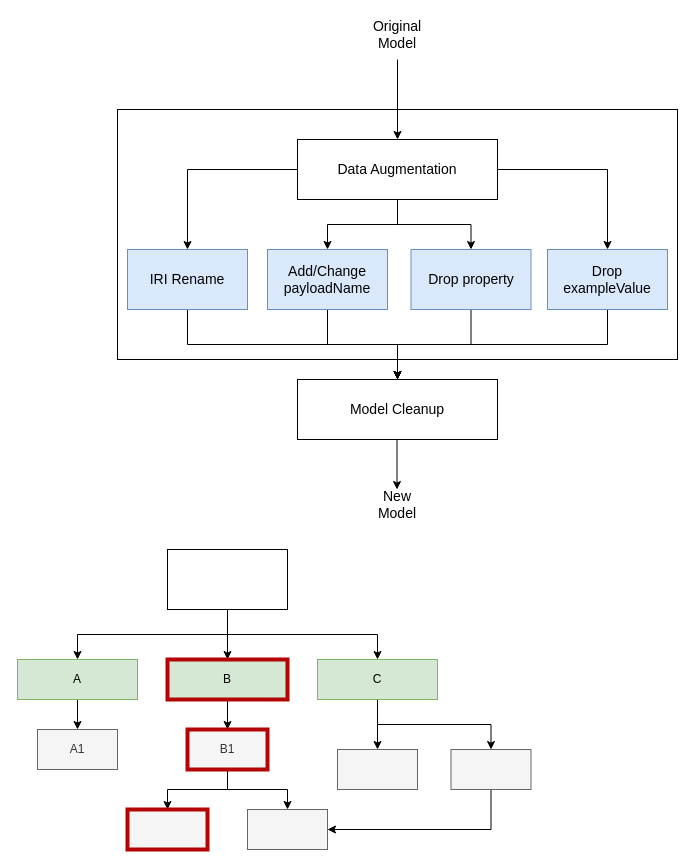
The diagram is 695 pixels wide and 868 high, and some of its shapes have lost their labels. Here are the shapes that lost their labels. From the top down, the box of each, then its label:
(166, 548, 288, 610): Aspect
(336, 748, 418, 790): C1
(450, 748, 531, 790): C2
(125, 807, 209, 851): B2
(246, 808, 328, 850): B3
